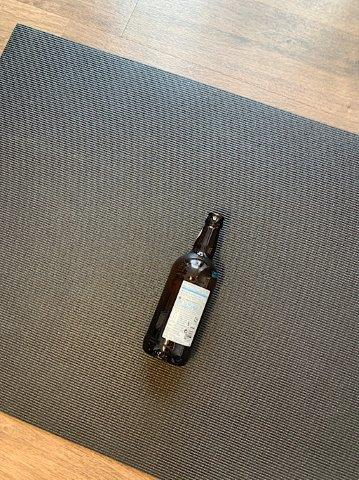botolkaca: (141, 214, 228, 366)
